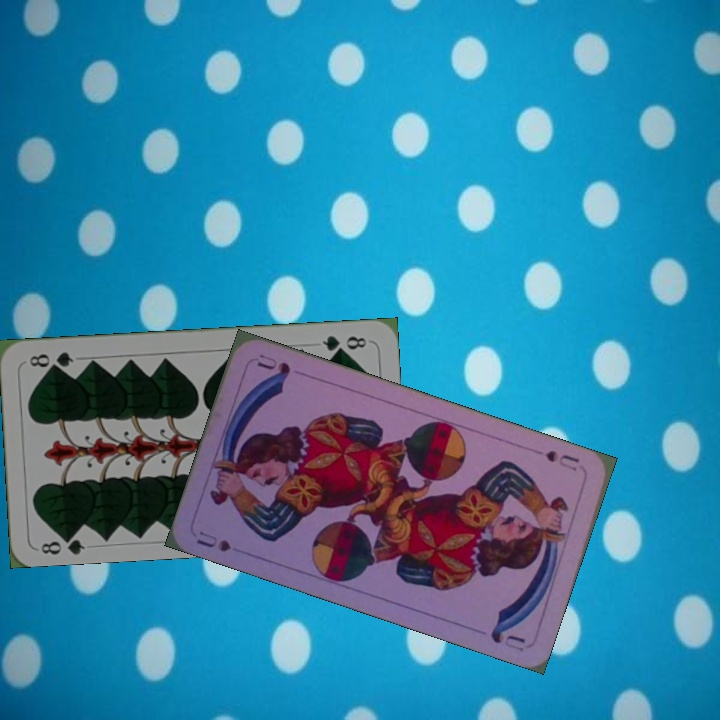G8: (37, 529, 87, 557), (318, 331, 369, 355)
SU: (529, 445, 582, 474), (192, 527, 234, 555)
